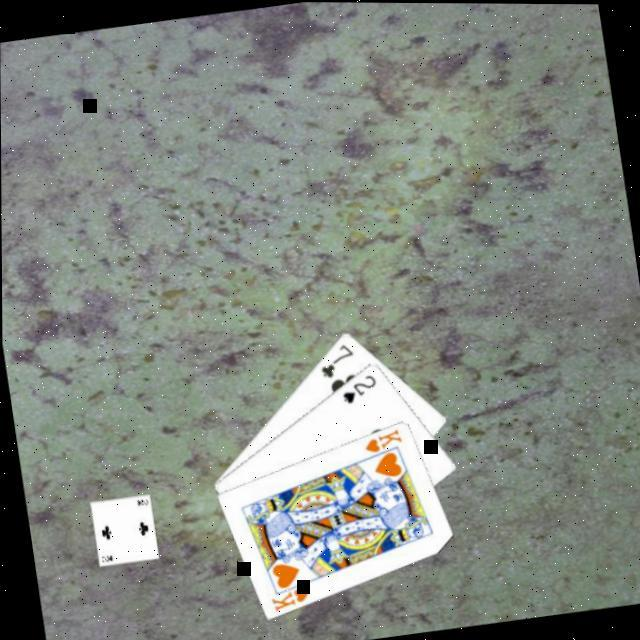2S: (335, 370, 380, 407)
7C: (312, 339, 358, 382)
KH: (358, 425, 405, 457), (266, 583, 313, 615)
